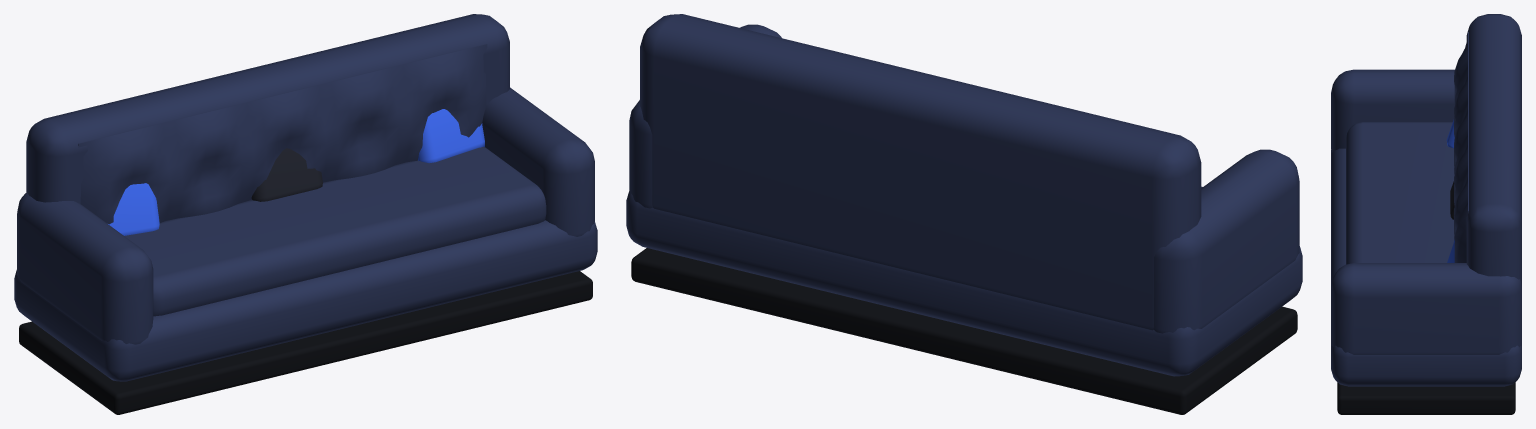
File: sofa_lounge_curved.glb
3 renders of one model, left to right at view 1: azimuth 30°, elevation 25°; view 2: azimuth 150°, elevation 25°; view 3: azimuth 270°, elevation 25°, orthographic. The views are drawn at different scales.
Visible parts, largest first — view 1: sofa_lounge_curved; view 2: sofa_lounge_curved; view 3: sofa_lounge_curved.
Boxes of the visible parts, x1,y1,x2,y2 form: sofa_lounge_curved: [14, 14, 597, 414]; sofa_lounge_curved: [626, 14, 1302, 414]; sofa_lounge_curved: [1331, 14, 1521, 414].
Bounding box in the file's own units: 2.4 × 1.05 × 0.9.
